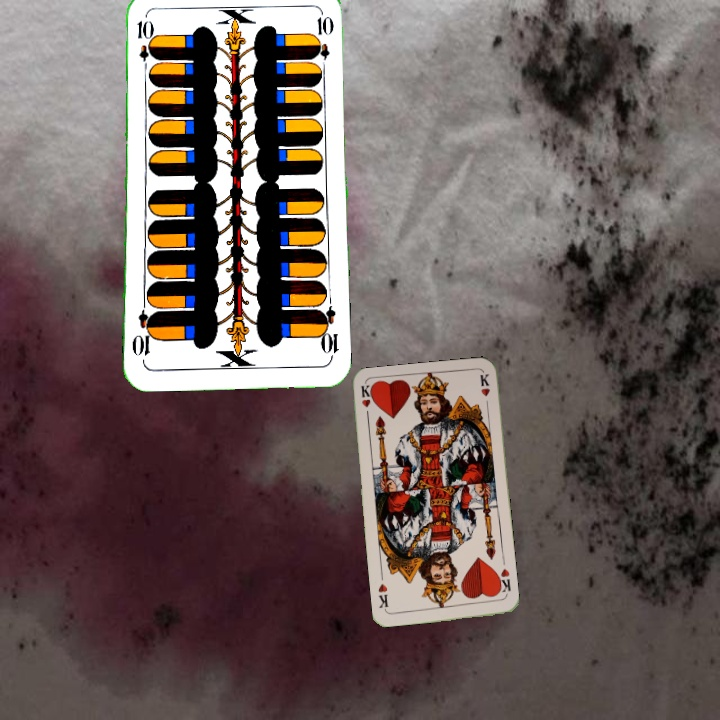E10: (315, 303, 341, 362), (133, 16, 151, 75)
HK: (492, 564, 513, 599), (357, 382, 374, 423)
